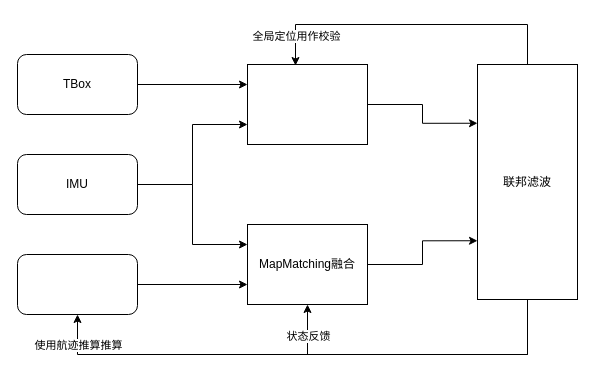
This 595x380 diagram has some shape labels left out. The centre of each missing label's shape, as x and y in pixels:
"GPS-IMU融合" goes at point (307, 104).
"MapMatching" goes at point (77, 284).
